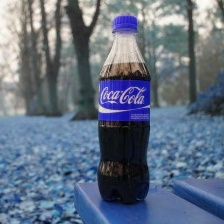bottle: (95, 12, 155, 206)
